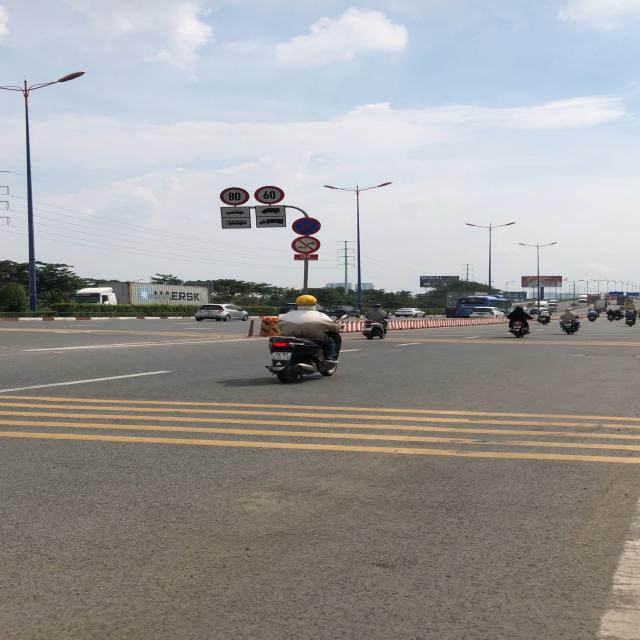Bien bao cam dung xe va do xe: (292, 217, 322, 236)
Bien bao toc do toi da cho phep: (220, 186, 251, 206), (253, 186, 286, 204)
